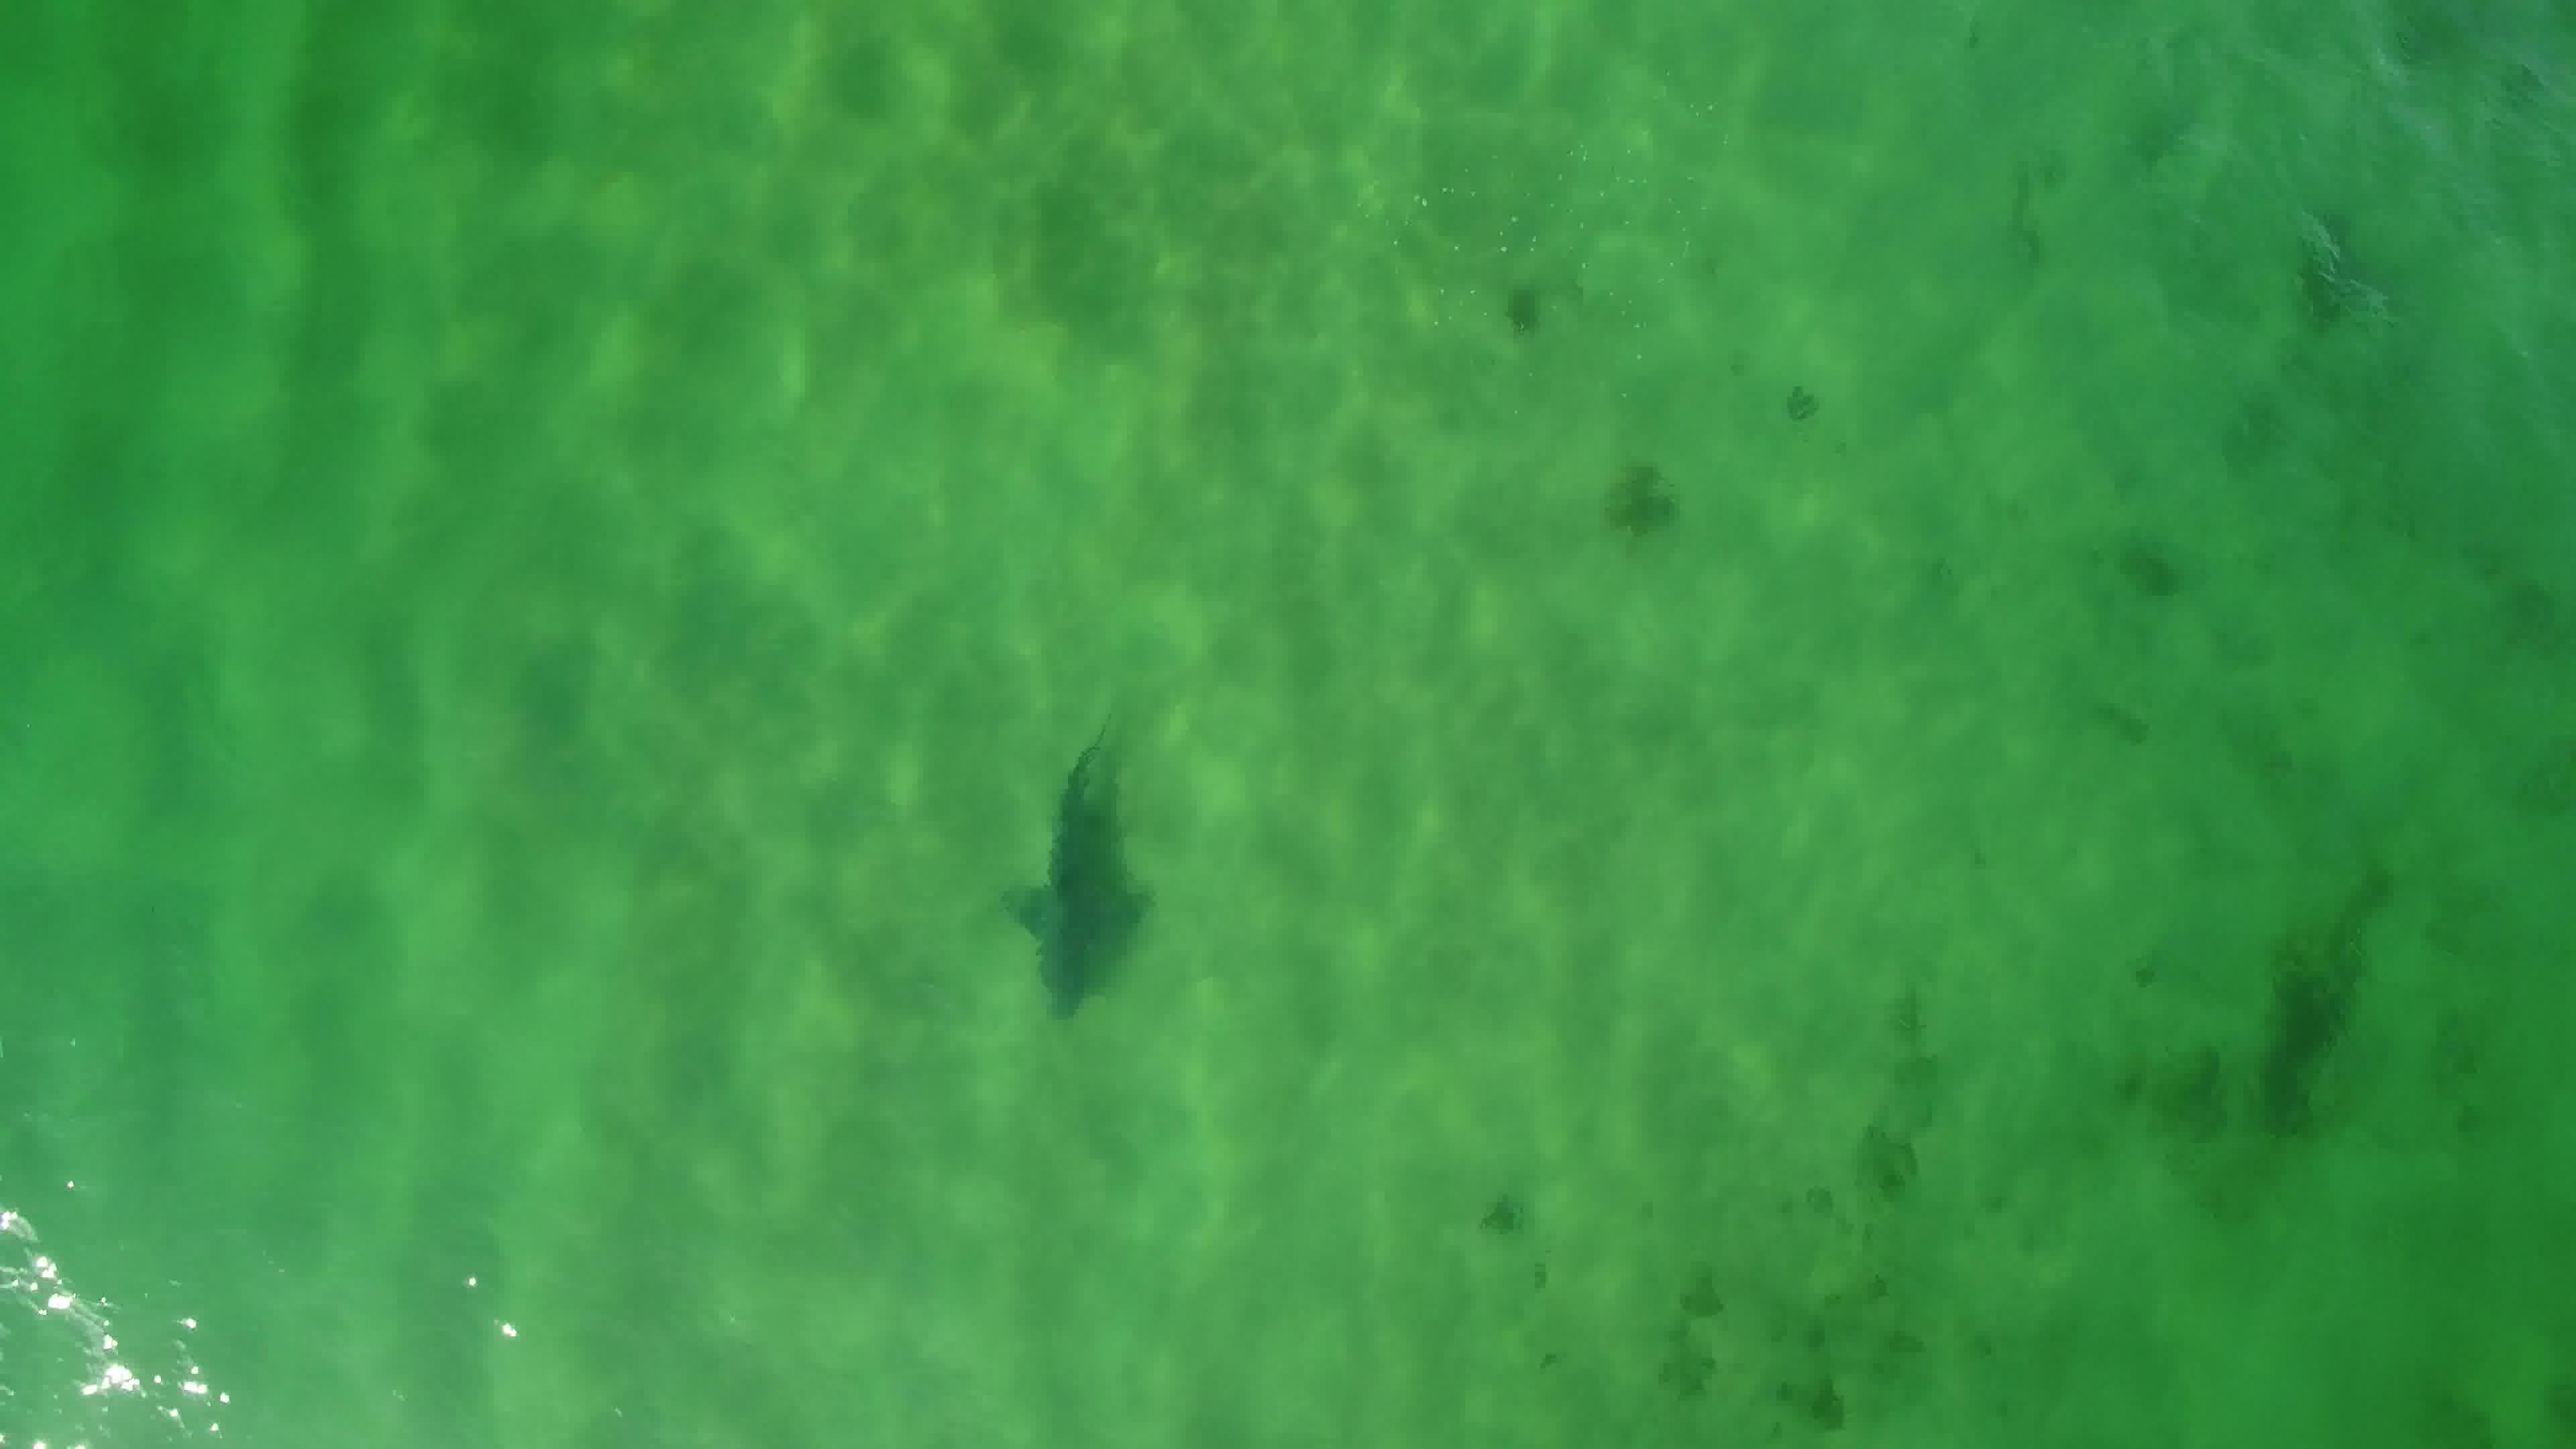shark: (985, 715, 1157, 1028)
